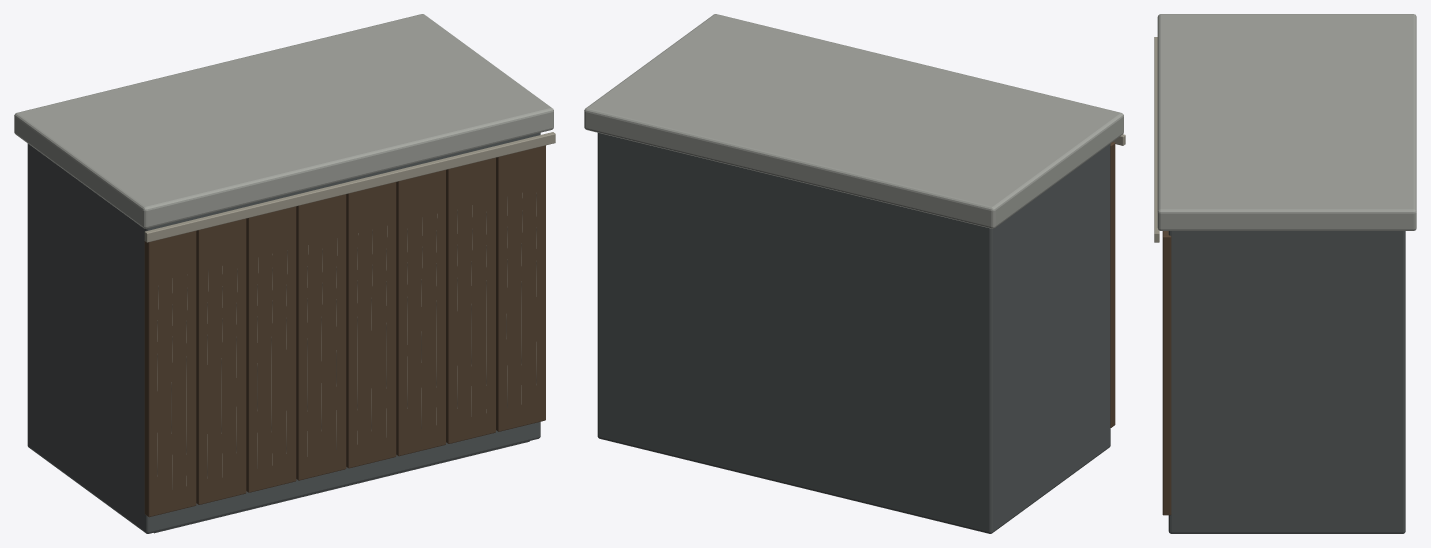
Rendered from counter-pilot.glb.
The picture shows the model from 3 angles, left to right: view 1: azimuth 30°, elevation 25°; view 2: azimuth 150°, elevation 25°; view 3: azimuth 270°, elevation 25°; orthographic projection.
Parts seen in each view (by area): view 1: counter_top, counter_body, veneer_panel_0, veneer_panel_3, veneer_panel_2, veneer_panel_1, veneer_panel_4, veneer_panel_7, veneer_panel_5, veneer_panel_6, stone_apron; view 2: counter_body, counter_top, veneer_panel_0; view 3: counter_body, counter_top, veneer_panel_7, stone_apron.
Boxes of the visible parts, box(x1,y1,x2,y2) form: counter_top: box(14, 14, 553, 228); counter_body: box(27, 132, 540, 533); veneer_panel_0: box(144, 231, 196, 517); veneer_panel_3: box(296, 194, 346, 480); veneer_panel_2: box(246, 206, 296, 492); veneer_panel_1: box(196, 218, 246, 504); veneer_panel_4: box(346, 182, 396, 468); veneer_panel_7: box(496, 145, 545, 431); veneer_panel_5: box(396, 170, 445, 456); veneer_panel_6: box(446, 157, 495, 443); stone_apron: box(144, 132, 555, 242); counter_body: box(597, 133, 1110, 533); counter_top: box(584, 14, 1123, 228); veneer_panel_0: box(1110, 142, 1115, 427); counter_body: box(1168, 231, 1405, 533); counter_top: box(1157, 14, 1416, 230); veneer_panel_7: box(1162, 231, 1171, 515); stone_apron: box(1154, 37, 1159, 242).
Size of the model in its own units: 1.3 by 1.02 by 0.7295.
